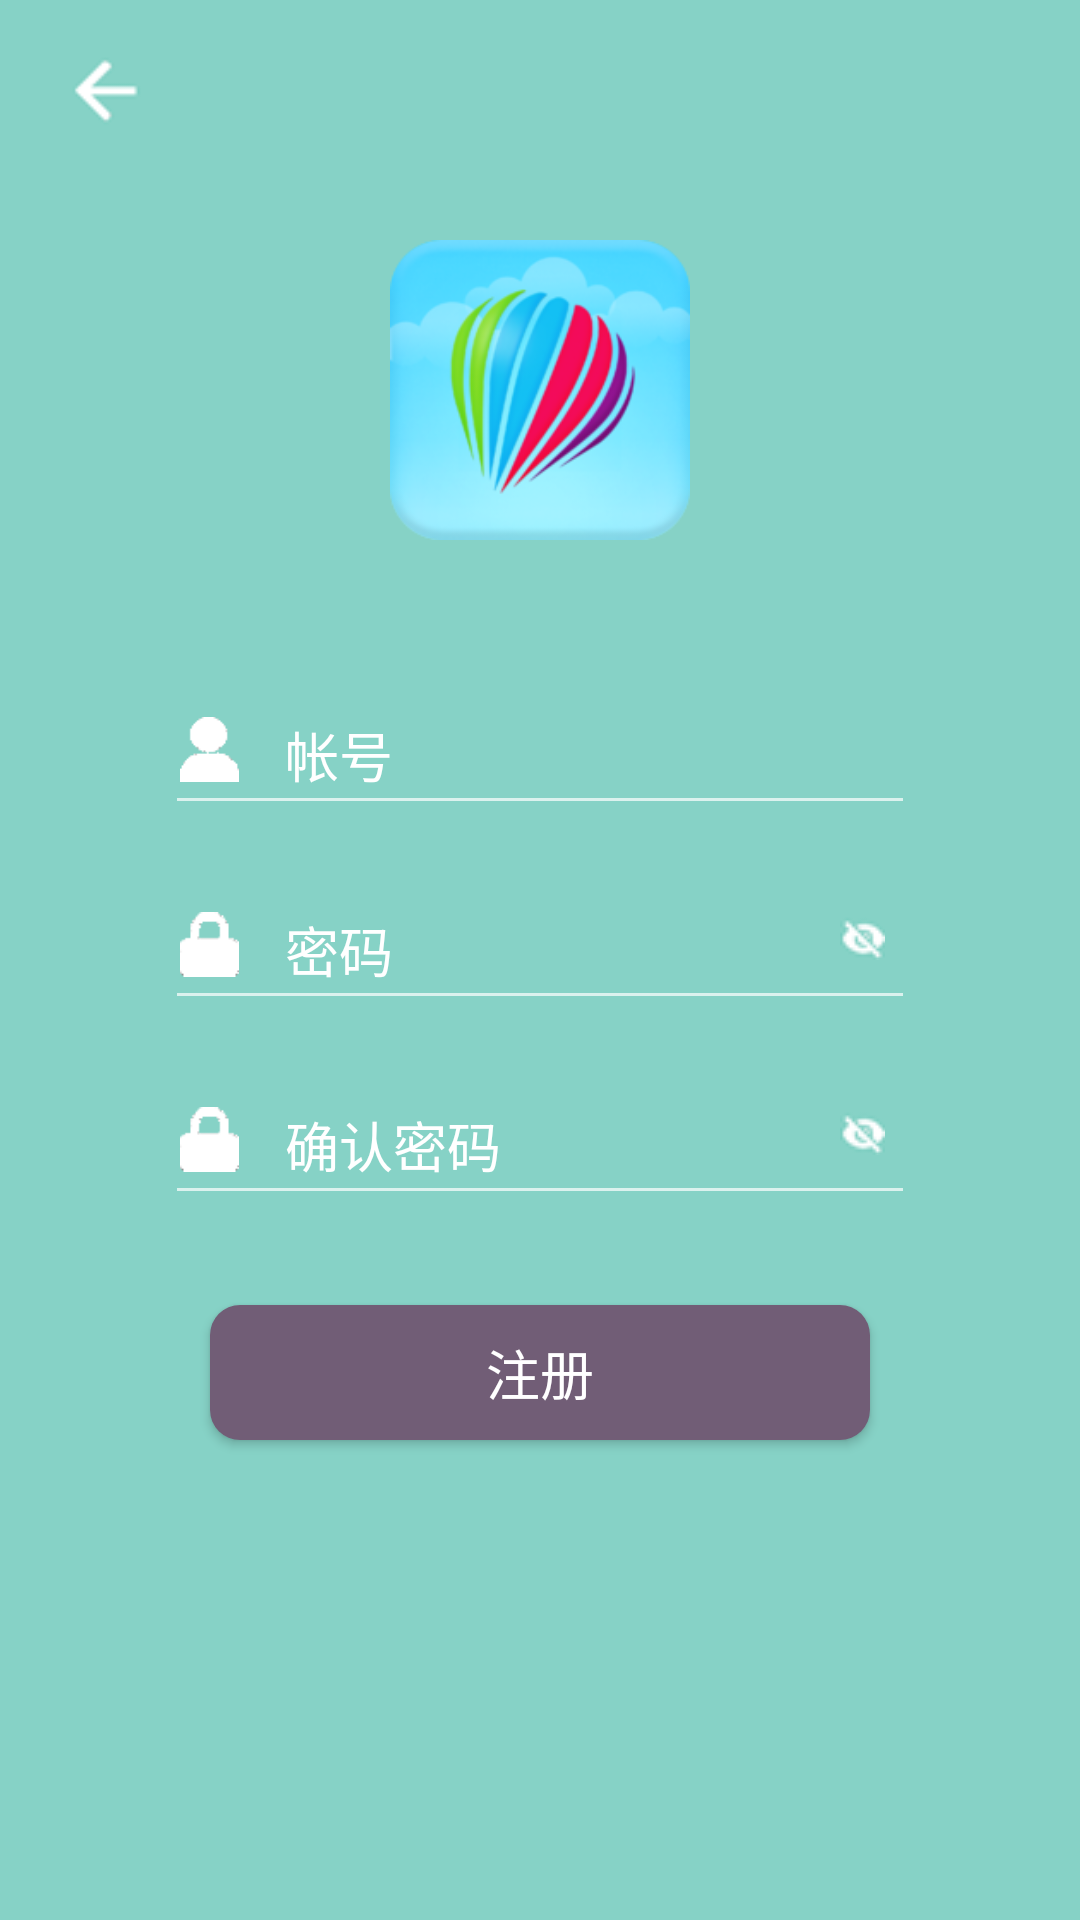

Point at icon controls on the screen. Image size 1080px x 1920px, points as [x,y].
account: [209,749]
back: [106,90]
password: [209,944], [209,1139]
visibility off: [863,939], [863,1134]
